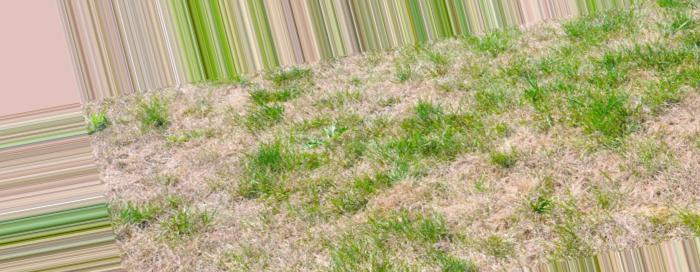patch: (278, 176, 372, 238), (173, 187, 265, 239), (426, 167, 513, 217), (127, 118, 214, 165), (290, 72, 366, 125), (523, 138, 599, 180), (380, 75, 446, 123), (623, 117, 676, 156), (487, 56, 546, 78)
